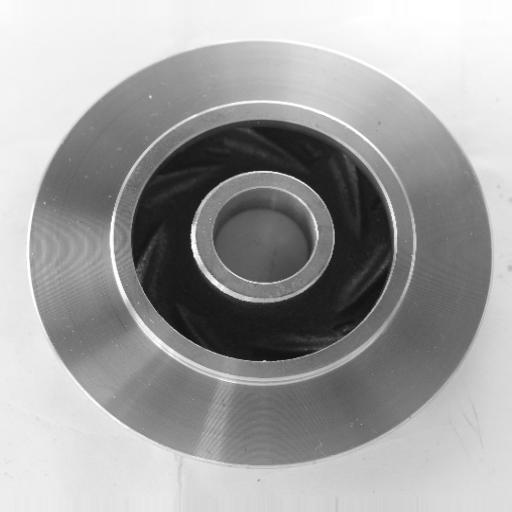polished_casting: (28, 36, 492, 468)
